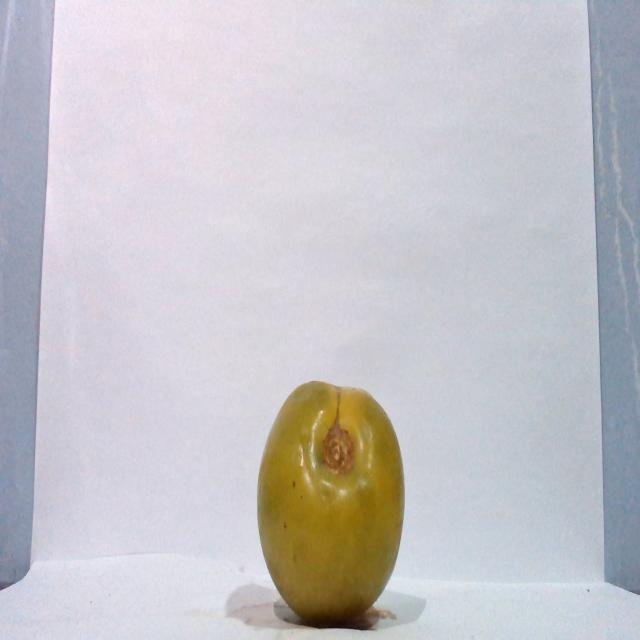Red: (255, 379, 406, 624)
